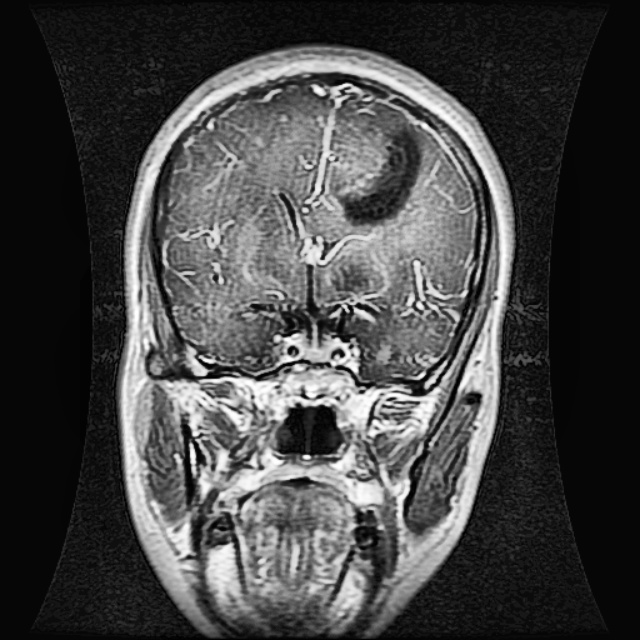Meningioma: (335, 124, 423, 227)
